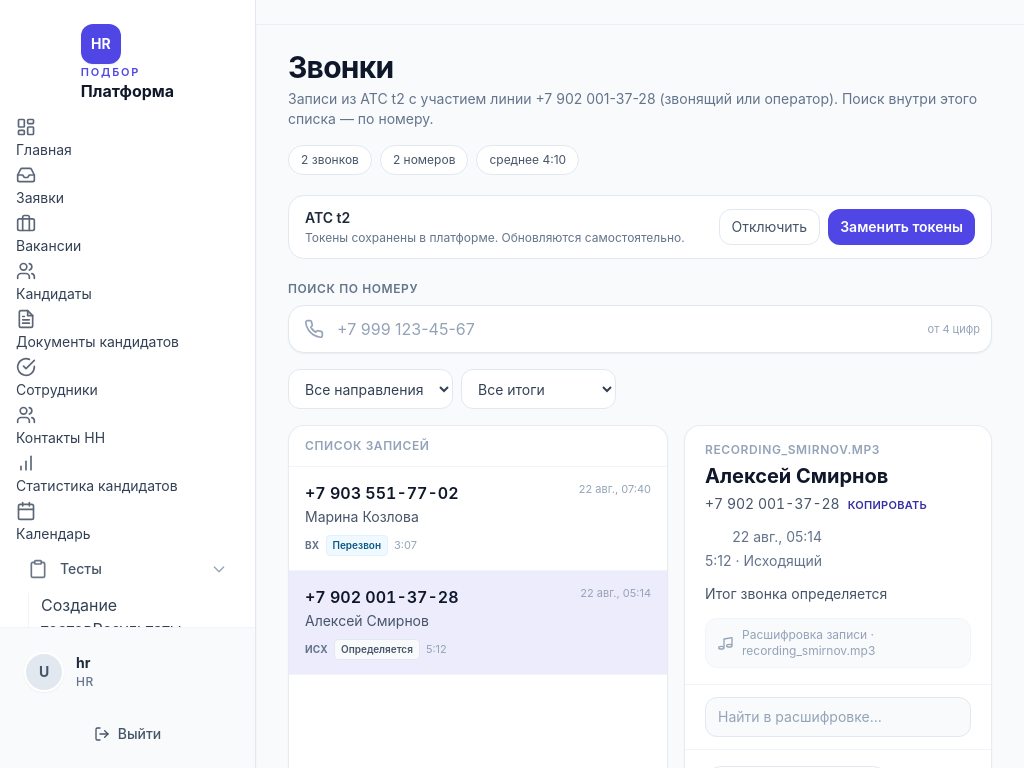
Test case: CallsPage › filters the list by a concrete phone number
This screenshot has width=1024, height=768.
Expected: the element with test id "calls-list" shows "Алексей Смирнов", [289,571,667,675]
Type "89035517702" into the field with test id "calls-phone-search" at (640, 329), box [288,305,992,353]
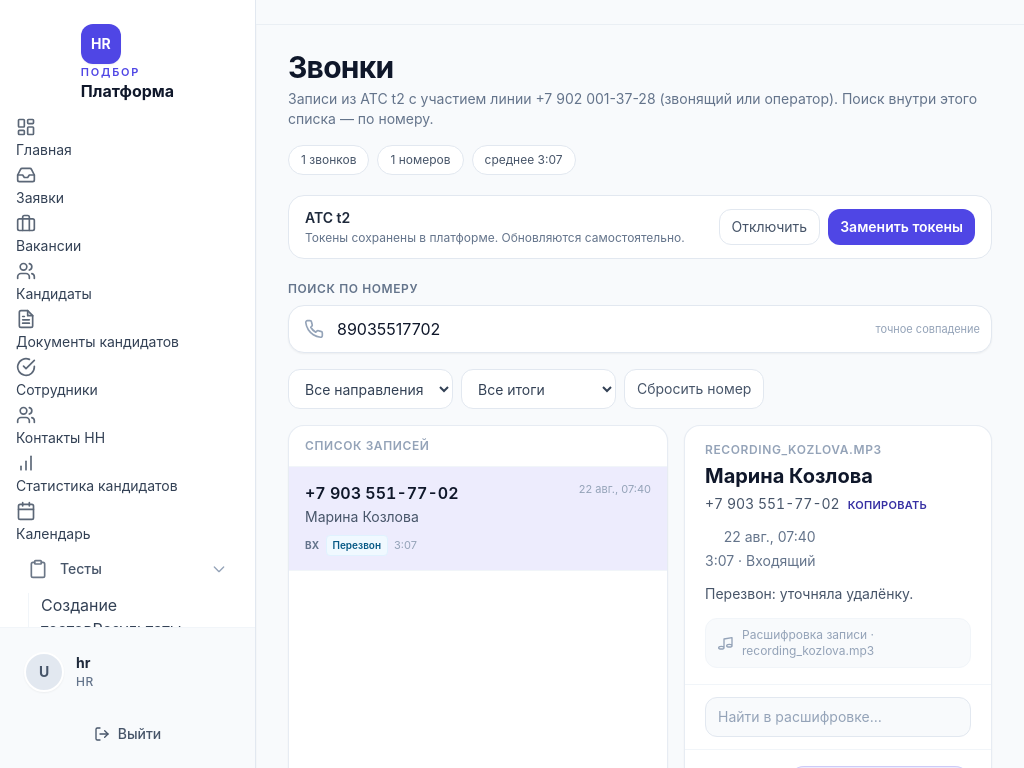
Expected: the element with test id "calls-list" shows "Марина Козлова", [289,467,667,571]
Expected: the element with test id "call-detail-phone" shows "+7 903 551-77-02", [705,495,840,512]
